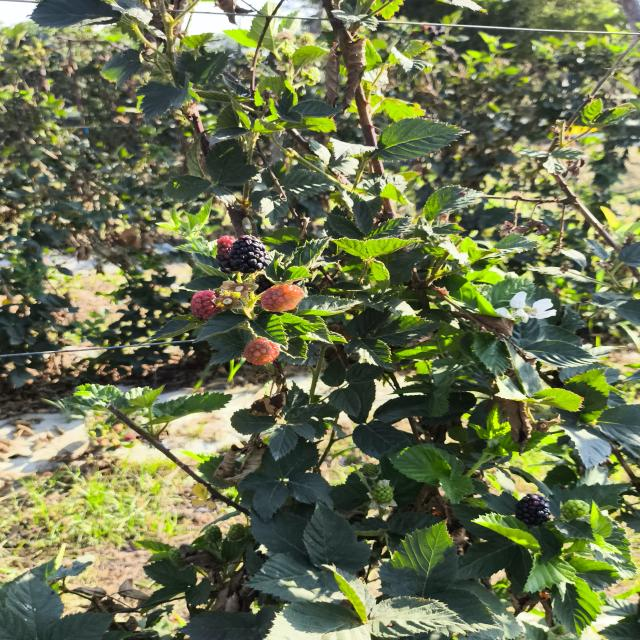maduro: (227, 235, 267, 274)
marron: (216, 236, 236, 273)
naranja: (260, 284, 304, 312), (243, 338, 279, 365), (191, 290, 222, 320)
